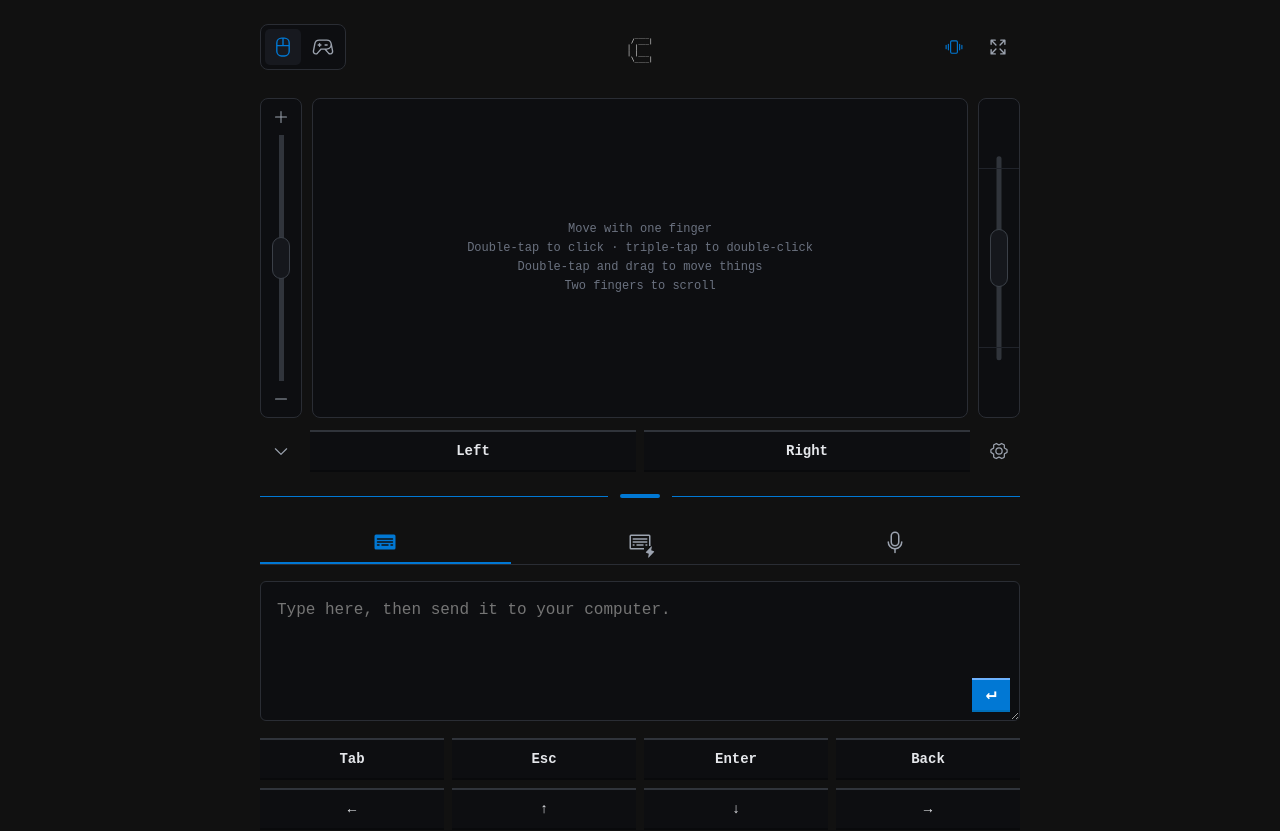
Test: React input workspace › shares fullscreen across mouse input and controller views and handles browser exit
Click the button named "Enter fullscreen" at point(998, 47), box [976,25,1020,69]
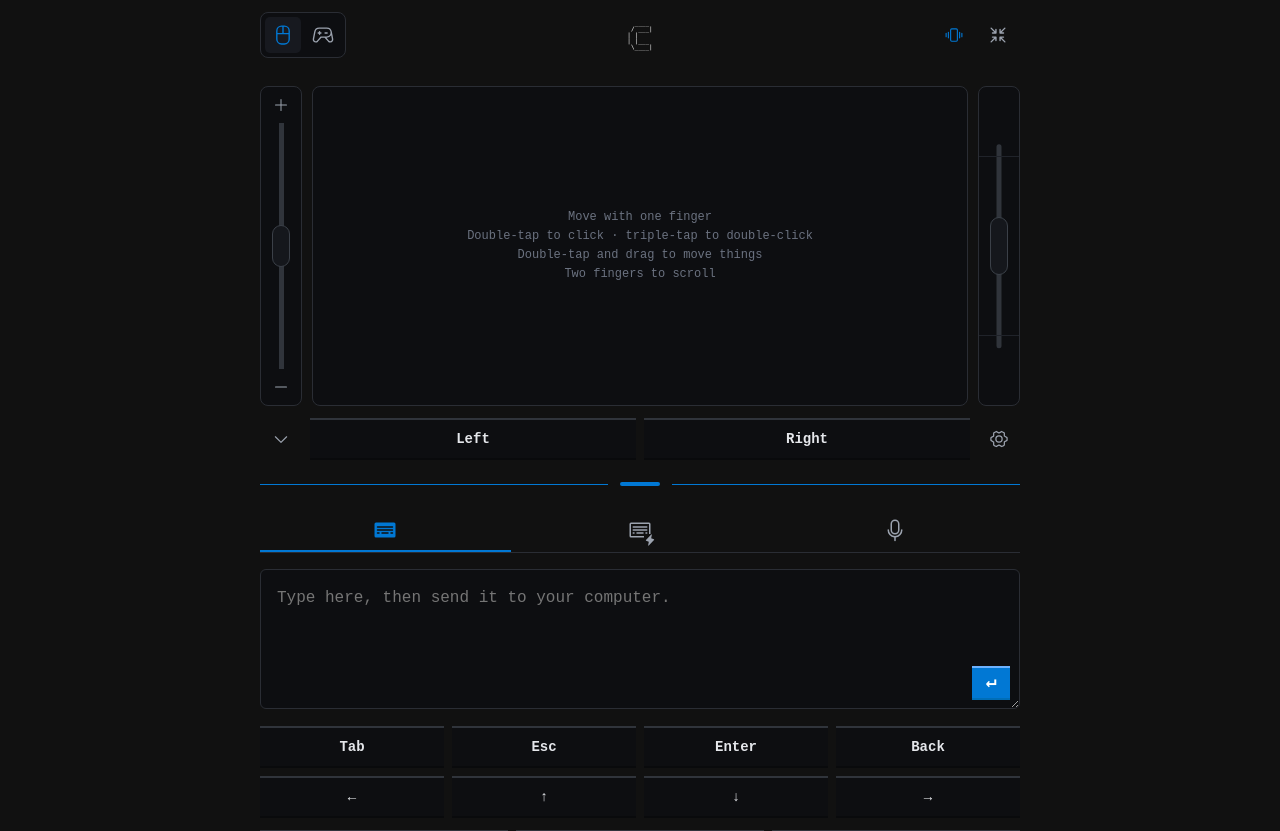
Expected: the element named "Trackpad" is shown, [312,86,968,406]
Click the button named "Controller" at point(323, 35), box [305,17,341,53]
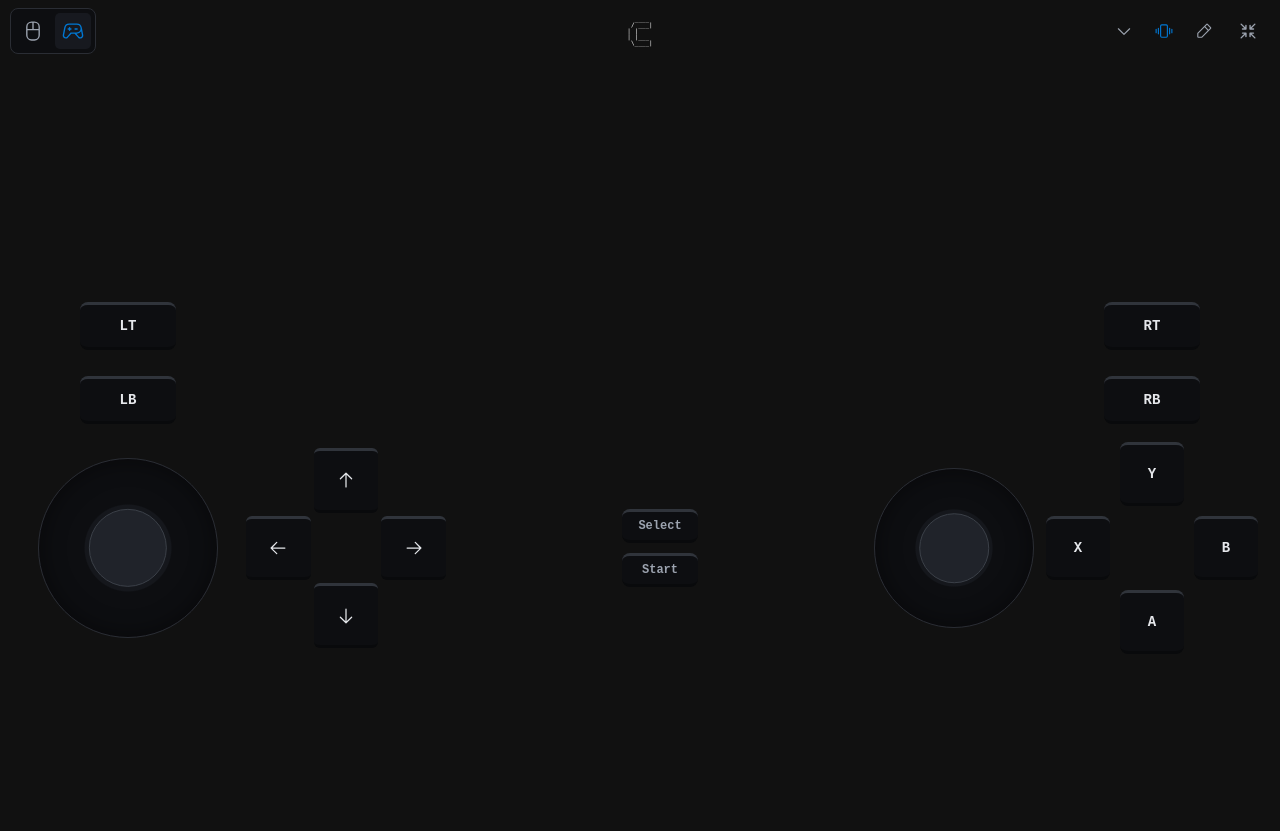
Expected: the button named "Exit fullscreen" is shown, [1226,9,1270,53]
Click the button named "Mouse + Input" at point(33, 31), box [15,13,51,49]
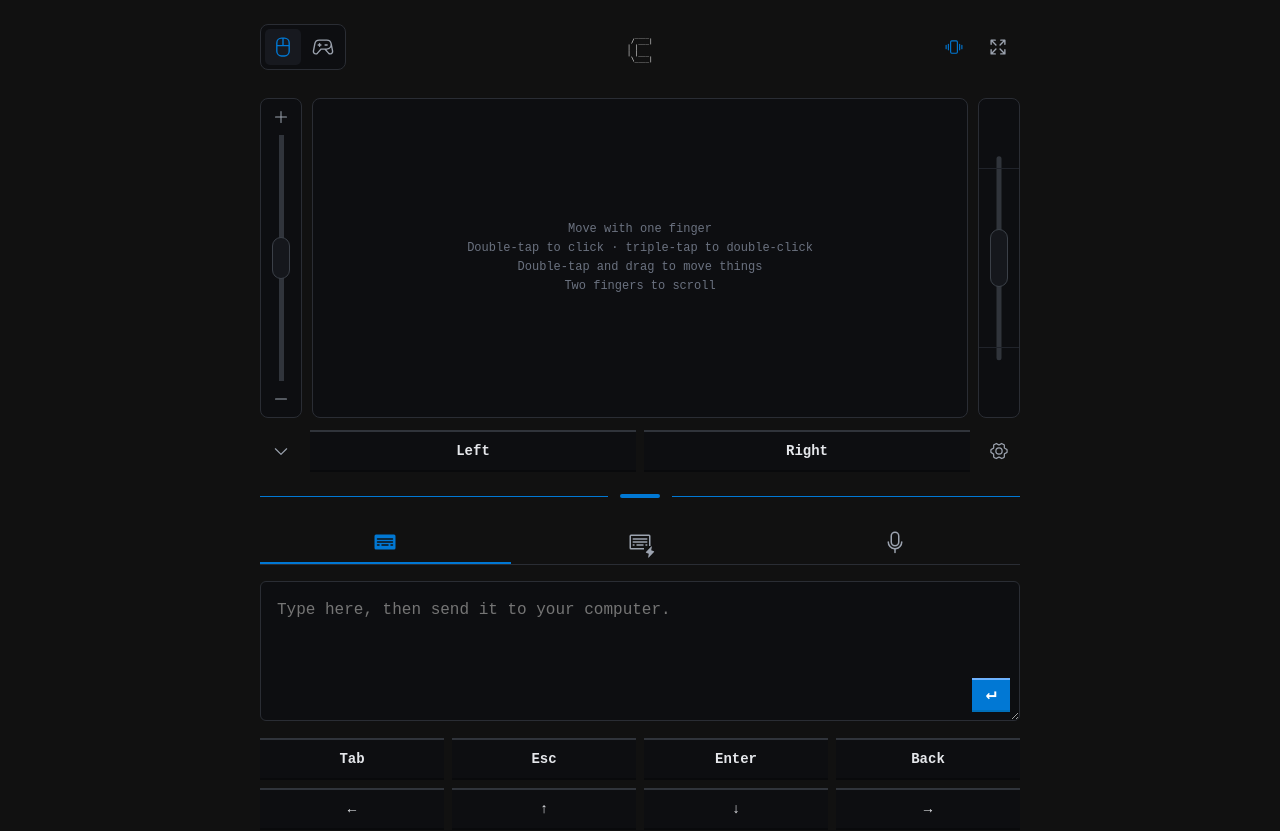
Expected: the button named "Enter fullscreen" is shown, [976,25,1020,69]
